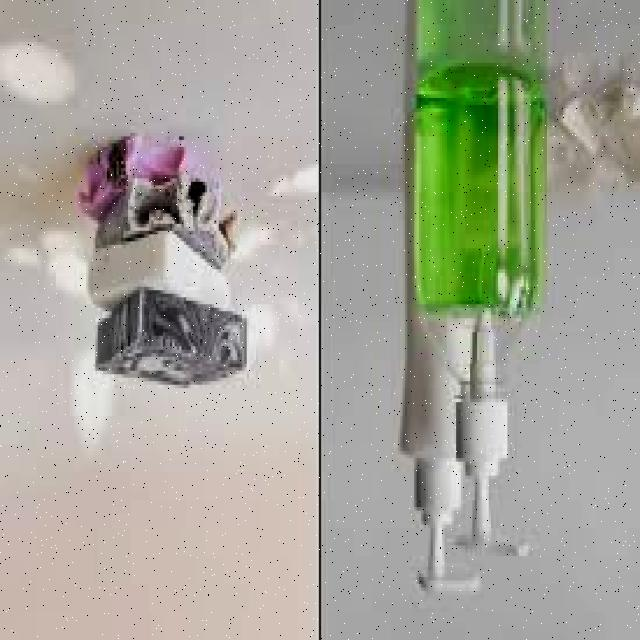liquid soap: (407, 63, 564, 575), (392, 95, 490, 600)
